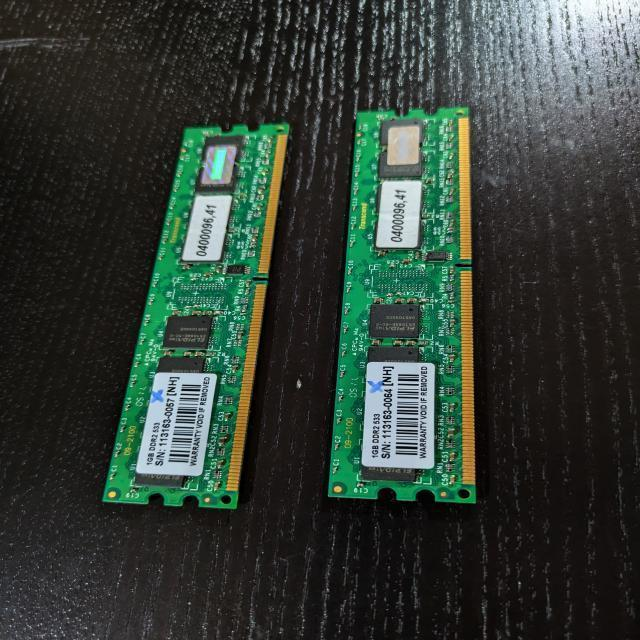RAM: (101, 122, 292, 510), (324, 106, 478, 505)
